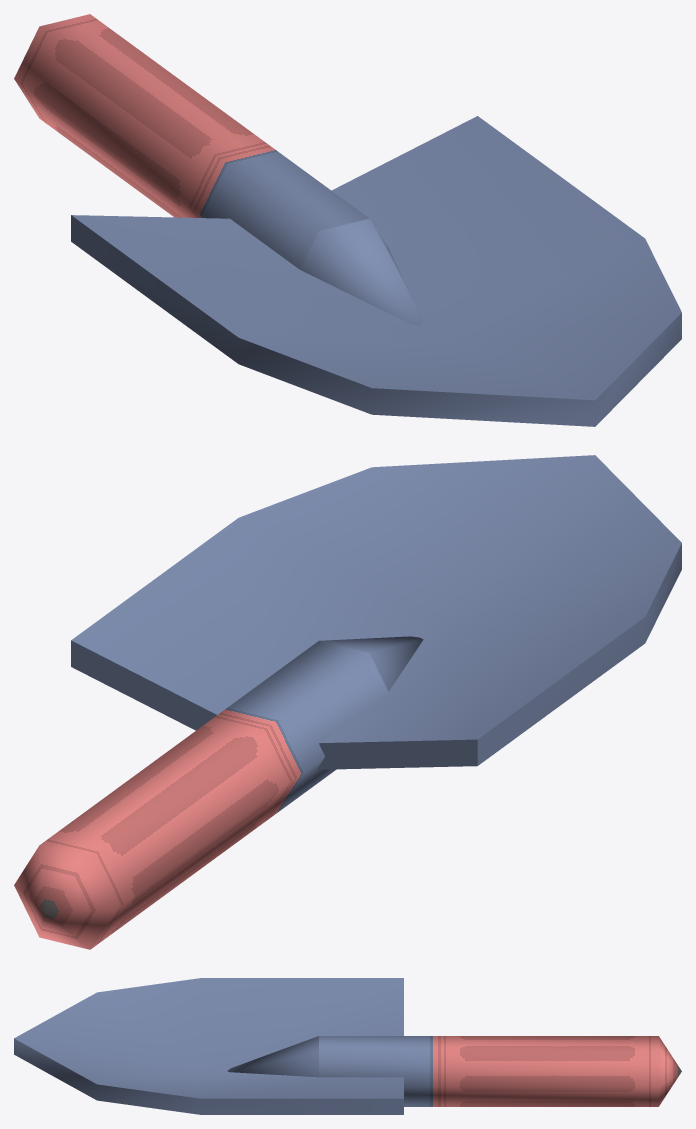
Rendered from 0300_Kiddie_Spade.glb.
The picture shows the model from 3 angles, top to bottom: view 1: azimuth 30°, elevation 25°; view 2: azimuth 150°, elevation 25°; view 3: azimuth 270°, elevation 25°; orthographic projection. The views are drawn at different scales.
Parts seen in each view (by area): view 1: part_0; view 2: part_0; view 3: part_0.
Boxes of the visible parts, box(x1,y1,x2,y2) form: part_0: box(14, 14, 681, 426); part_0: box(14, 455, 681, 949); part_0: box(14, 978, 681, 1114).
Bounding box in the file's own units: 0.104 × 0.0245 × 0.2435.
Materials: 1 (1 with a texture image).
